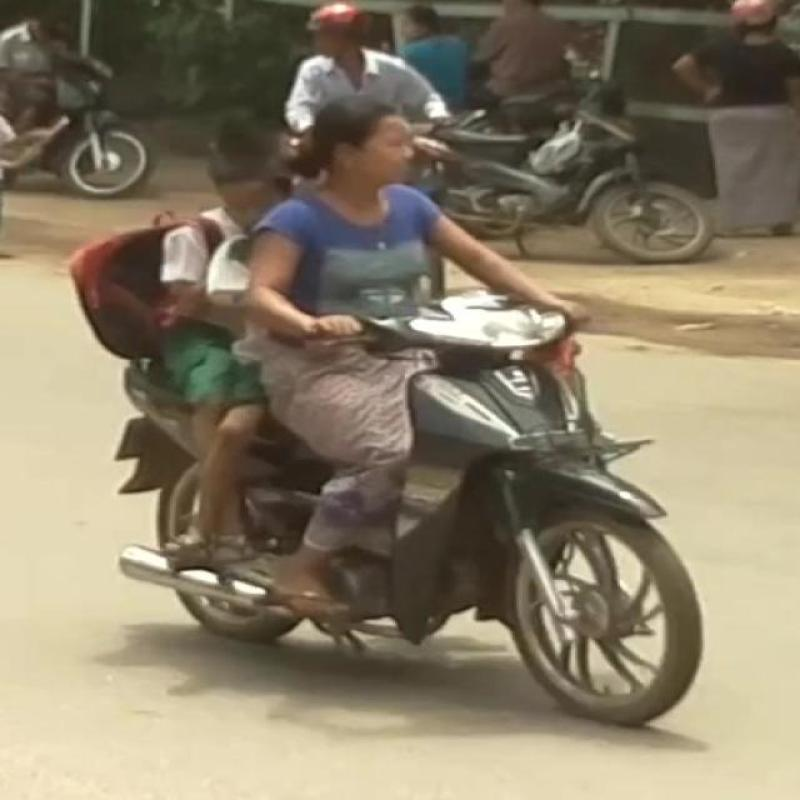nohelmet: (286, 74, 470, 204)
